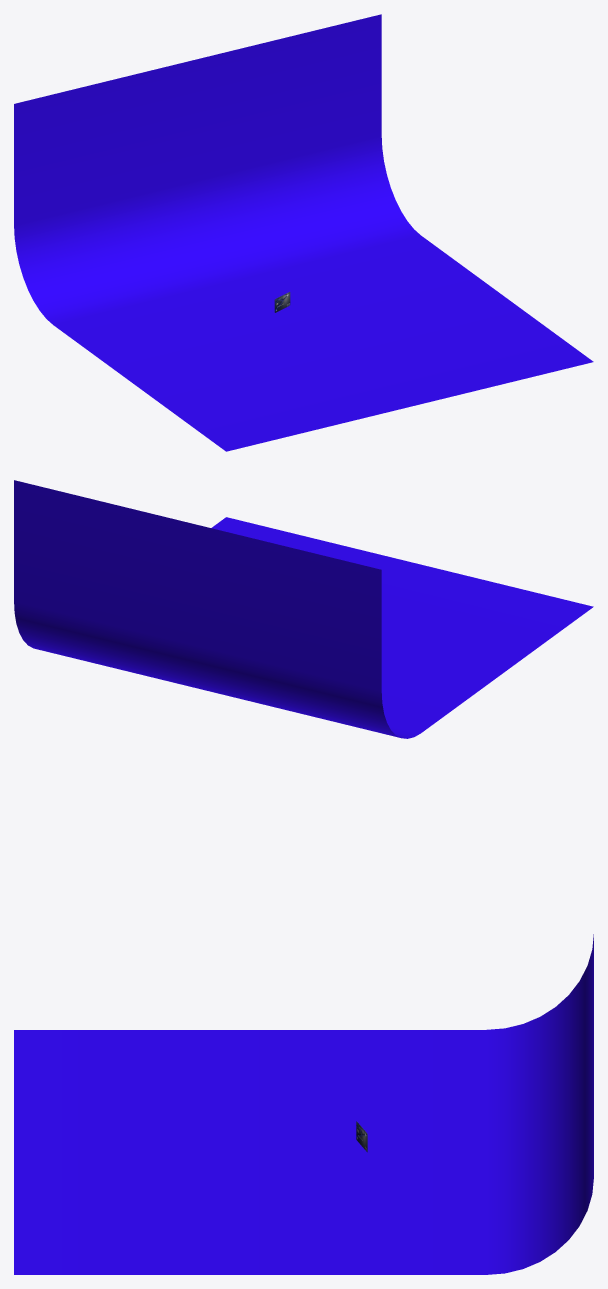
File: bank_of_america_card.glb
3 renders of one model, top to bottom at view 1: azimuth 30°, elevation 25°; view 2: azimuth 150°, elevation 25°; view 3: azimuth 270°, elevation 25°, orthographic. The views are drawn at different scales.
Visible parts, largest first — view 1: Plane_3; view 2: Plane_3; view 3: Plane_3.
Boxes of the visible parts, box(x1,y1,x2,y2) form: Plane_3: box(14, 14, 593, 451); Plane_3: box(14, 480, 593, 738); Plane_3: box(14, 934, 593, 1274).
Bounding box in the file's own units: 30 × 15 × 30.
Materials: 2 (1 with a texture image).
